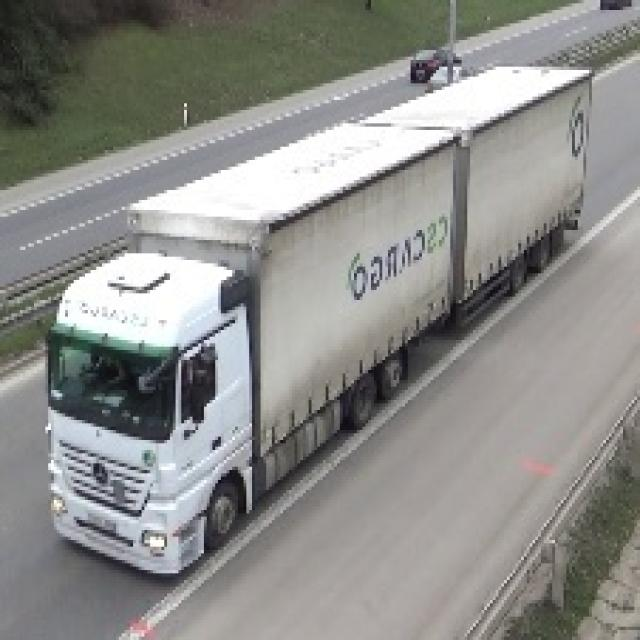TRUCK: (42, 71, 591, 583)
